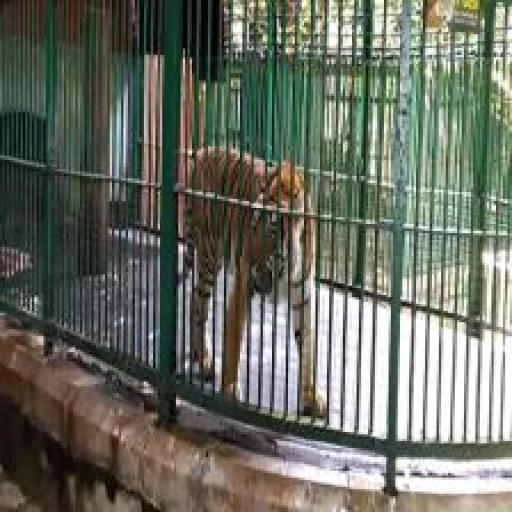Tiger: (180, 140, 334, 444)
